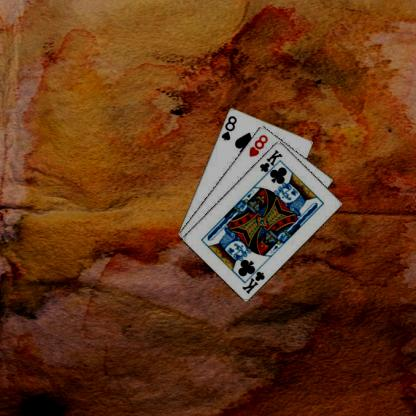8H: (246, 132, 268, 158)
8S: (218, 113, 238, 142)
KC: (257, 146, 284, 178), (240, 263, 266, 295)
